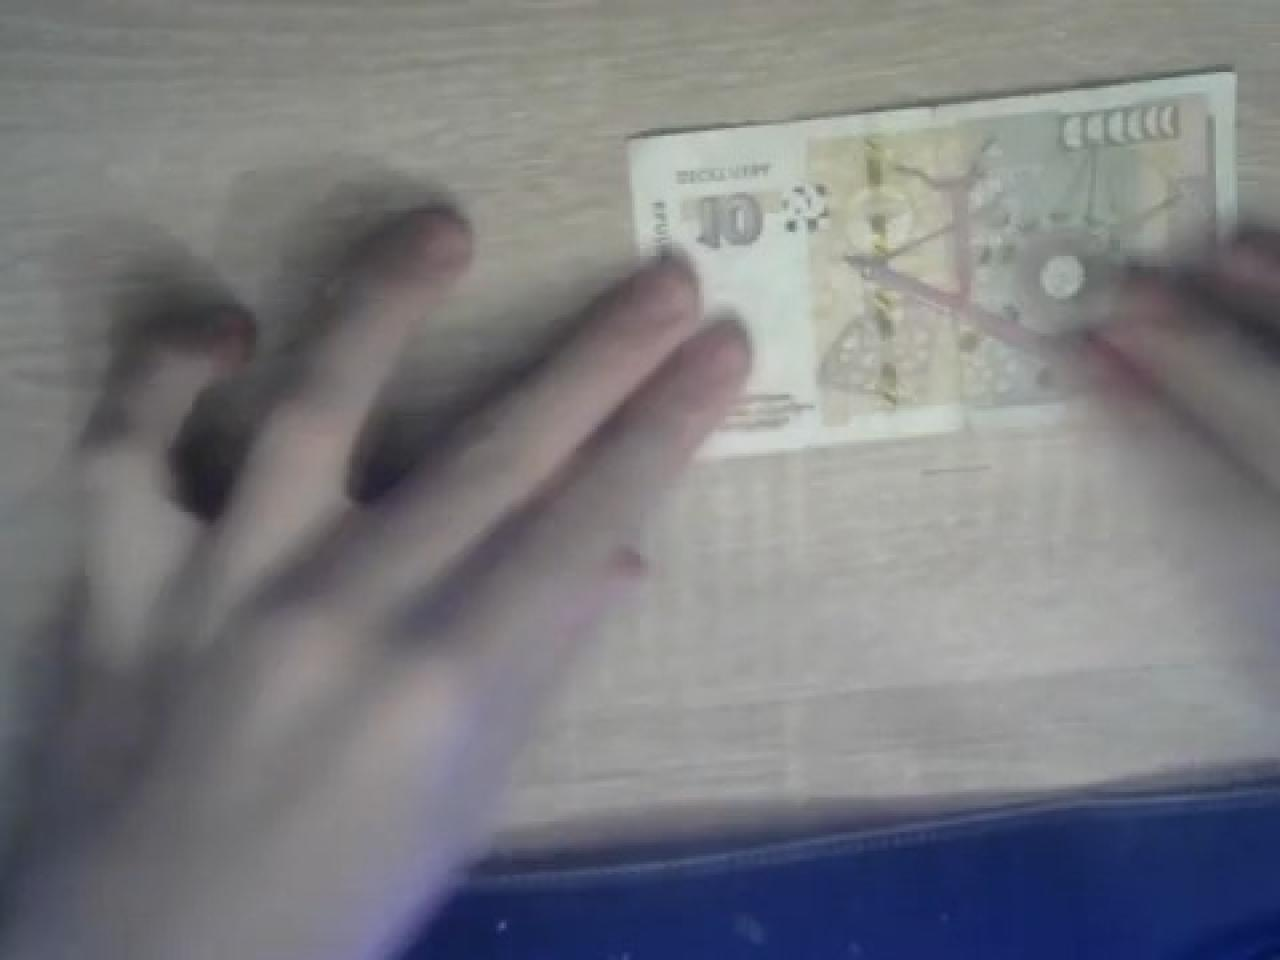10leva: (627, 72, 1235, 456)
